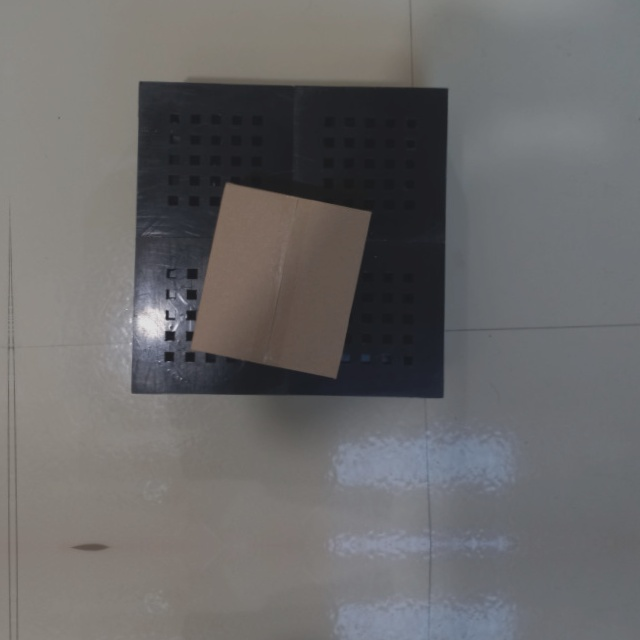box: (189, 177, 376, 384)
pallet: (131, 73, 447, 403)
